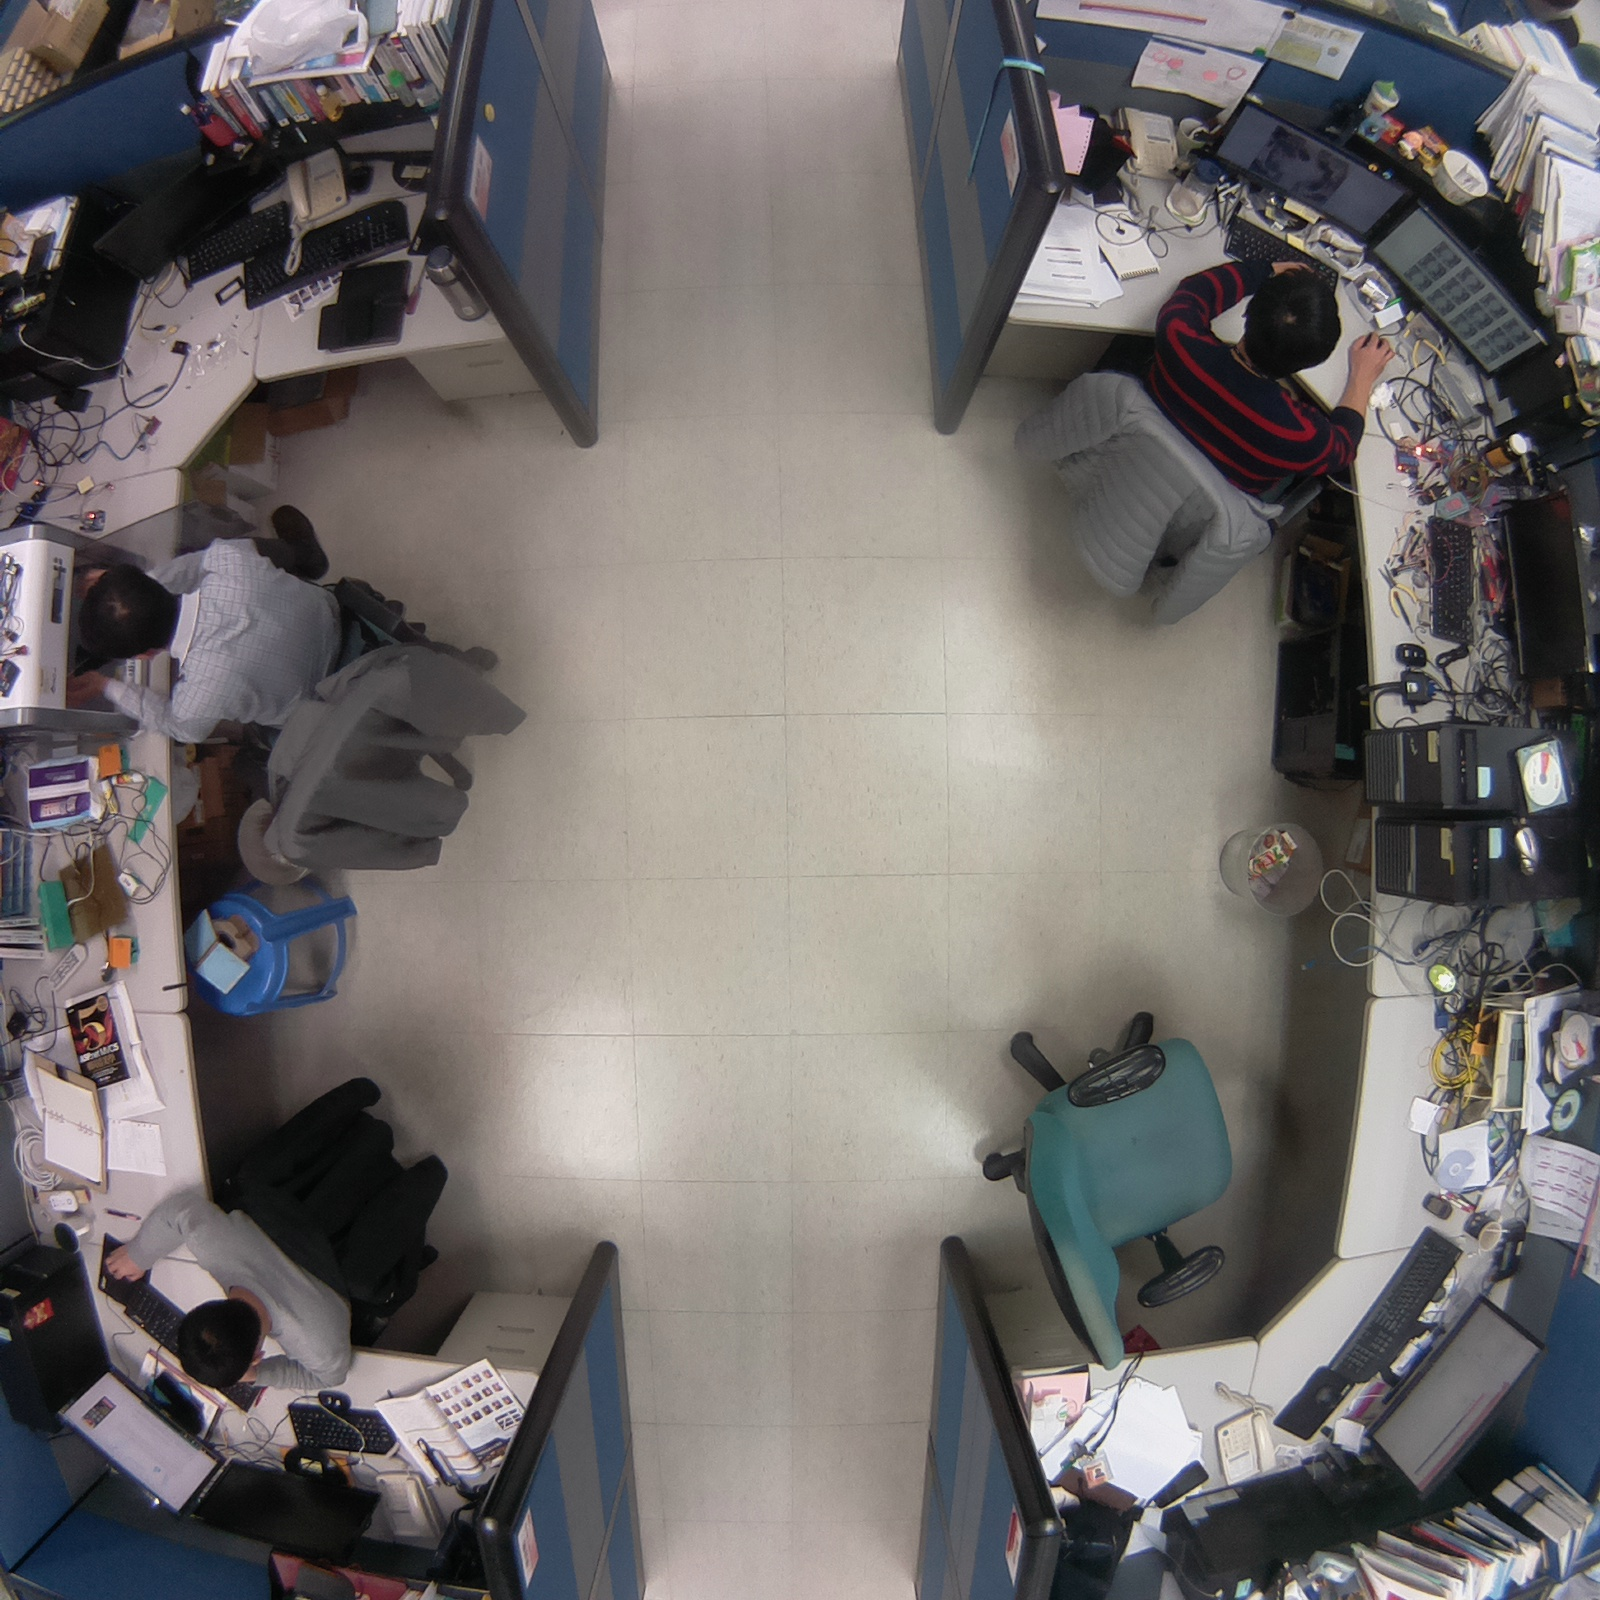chair: (940, 991, 1245, 1381)
head: (1236, 255, 1346, 378), (74, 557, 185, 665), (170, 1293, 263, 1395)
sitting: (58, 504, 547, 904), (981, 241, 1395, 642), (90, 1065, 468, 1397)
